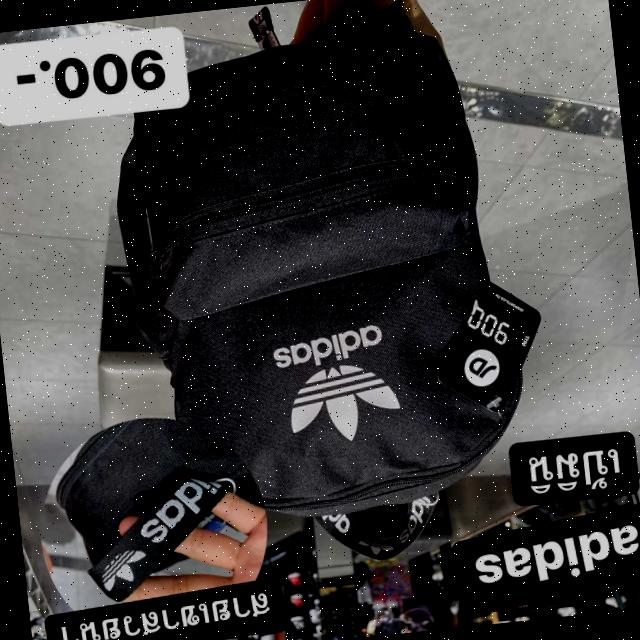handbag: (107, 0, 533, 548)
